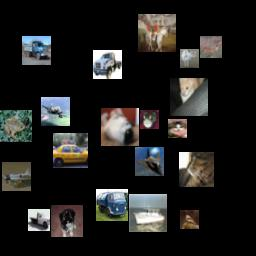airplane: (41, 97, 70, 126), (2, 162, 31, 191), (135, 147, 164, 176)
automobile: (53, 133, 88, 168)
bird: (180, 210, 199, 229)
cat: (101, 108, 139, 146), (170, 78, 208, 116), (179, 152, 214, 187), (168, 119, 187, 138), (140, 110, 159, 129)
deer: (200, 36, 222, 58), (180, 49, 199, 68)
dog: (51, 205, 83, 237)
frog: (0, 110, 32, 142)
ship: (129, 194, 167, 232)
truck: (96, 189, 128, 221), (22, 36, 51, 65), (93, 50, 122, 79), (28, 209, 50, 231)
